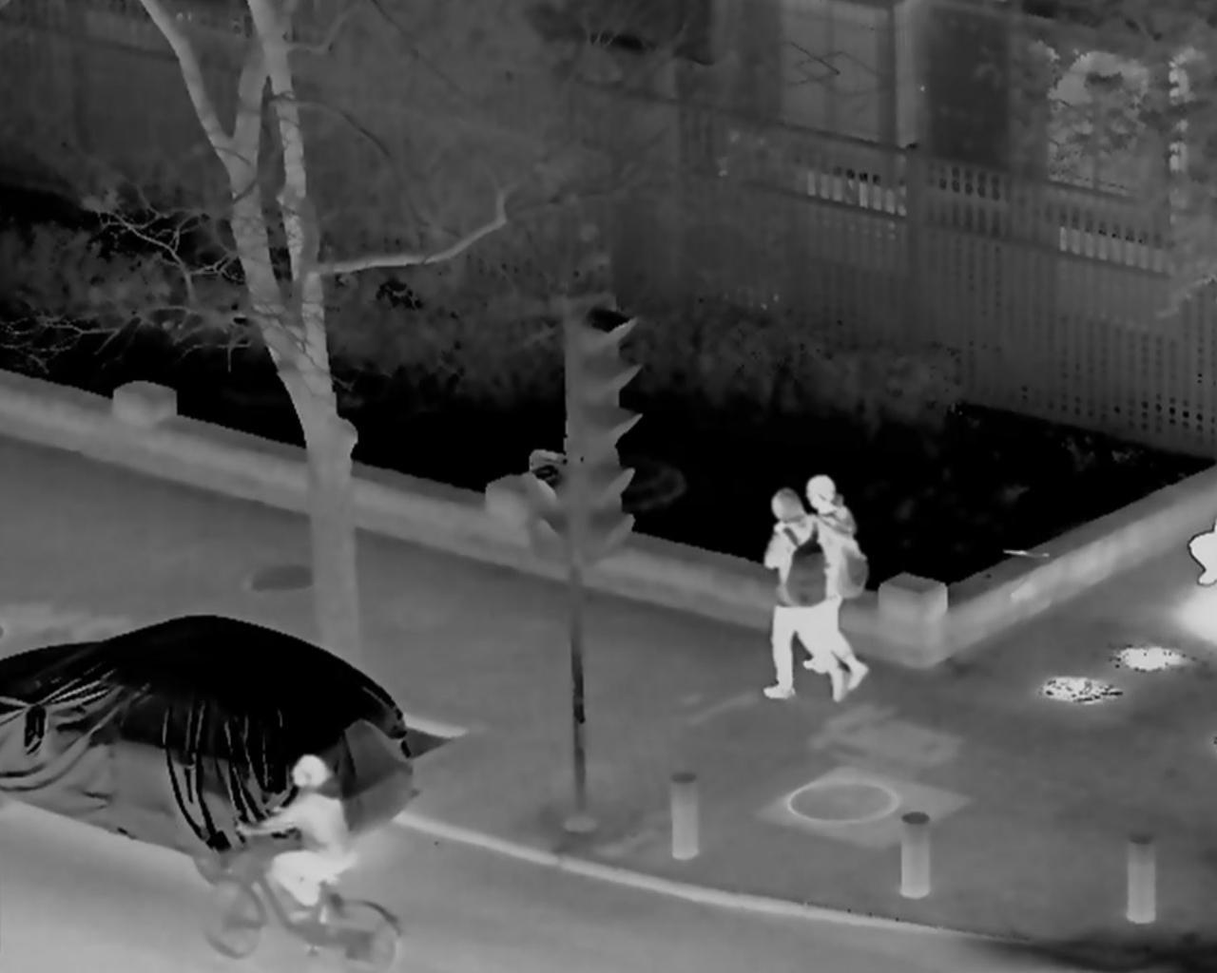person: (232, 754, 358, 937), (751, 487, 847, 702), (787, 470, 878, 690)
